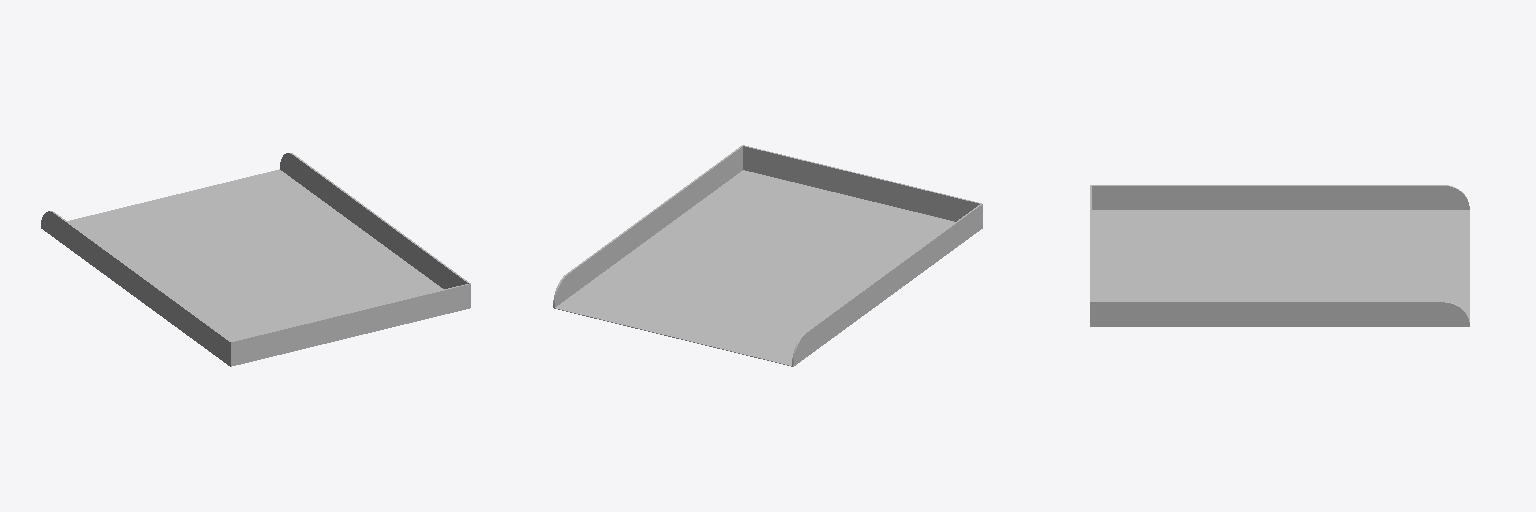
The model's file is tray.obj.
The picture shows the model from 3 angles: view 1: azimuth 30°, elevation 25°; view 2: azimuth 150°, elevation 25°; view 3: azimuth 270°, elevation 25°; orthographic projection.
Visible parts, largest first — view 1: Mesh1 Model; view 2: Mesh1 Model; view 3: Mesh1 Model.
Part boxes in pixels (left/top/right/bottom): Mesh1 Model: left=41, top=153, right=470, bottom=366; Mesh1 Model: left=553, top=145, right=982, bottom=366; Mesh1 Model: left=1090, top=185, right=1469, bottom=326.
Bounding box in the file's own units: 2200 × 214 × 3005.